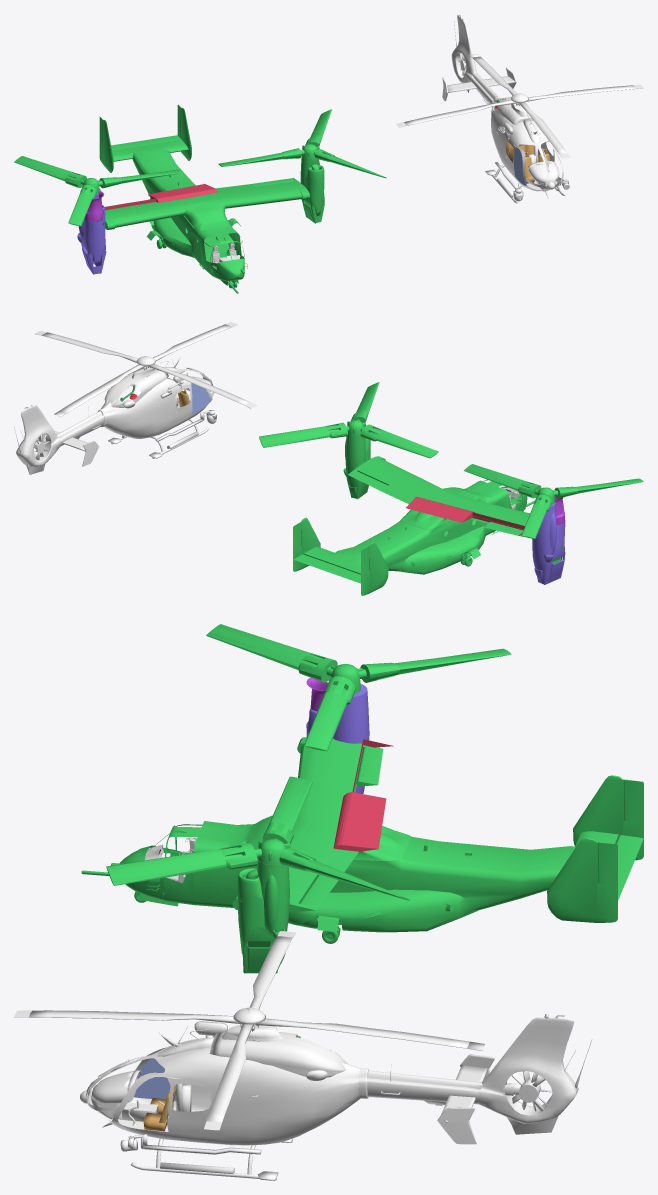
Rendered from helicopter.gltf.
The picture shows the model from 3 angles, top to bottom: view 1: azimuth 30°, elevation 25°; view 2: azimuth 150°, elevation 25°; view 3: azimuth 270°, elevation 25°; orthographic projection. The views are drawn at different scales.
Parts seen in each view (by area): view 1: Object_5, Object_9.001, chassis, Object_8.001, Interior Cover, static_rotor, Nacelle, Object_7, Integrated Wingbox, Interior Linings; view 2: Object_5, Object_9.001, chassis, Interior Cover, Object_8.001, static_rotor, Nacelle, Object_7, Integrated Wingbox, Door; view 3: Object_9.001, chassis, Object_5, Interior Cover, Object_8.001, static_rotor, Object_7, Integrated Wingbox, Nacelle, Door.
Boxes of the visible parts, box(x1,y1,x2,y2) form: Object_5: box(65, 109, 386, 288); Object_9.001: box(112, 139, 244, 285); chassis: box(442, 15, 569, 203); Object_8.001: box(14, 104, 324, 239); Interior Cover: box(491, 96, 569, 190); static_rotor: box(396, 54, 643, 158); Nacelle: box(77, 189, 106, 274); Object_7: box(68, 174, 293, 293); Integrated Wingbox: box(104, 184, 217, 210); Interior Linings: box(506, 141, 549, 183); Object_5: box(259, 382, 577, 583); Object_9.001: box(301, 479, 527, 574); chassis: box(14, 356, 216, 474); Interior Cover: box(98, 369, 214, 438); Object_8.001: box(293, 420, 546, 595); static_rotor: box(35, 322, 256, 416); Nacelle: box(532, 501, 565, 584); Object_7: box(350, 471, 643, 566); Integrated Wingbox: box(406, 496, 524, 535); Door: box(191, 383, 210, 414); Object_9.001: box(120, 780, 624, 932); chassis: box(80, 1007, 592, 1180); Object_5: box(106, 653, 643, 928); Interior Cover: box(87, 1032, 368, 1145); Object_8.001: box(237, 648, 643, 973); static_rotor: box(14, 931, 485, 1130); Object_7: box(81, 624, 472, 918); Integrated Wingbox: box(333, 739, 393, 851); Nacelle: box(306, 684, 369, 793); Door: box(134, 1058, 176, 1101).
Bounding box in the file's own units: 25.63 × 4.45 × 13.53.
